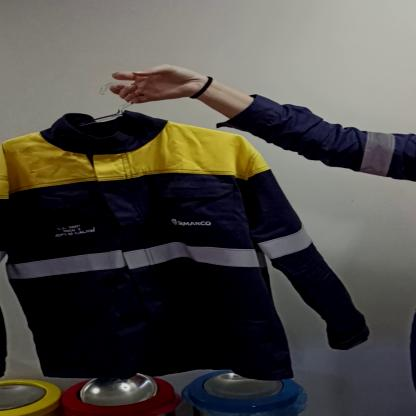C_eletrica: (0, 109, 370, 384)
